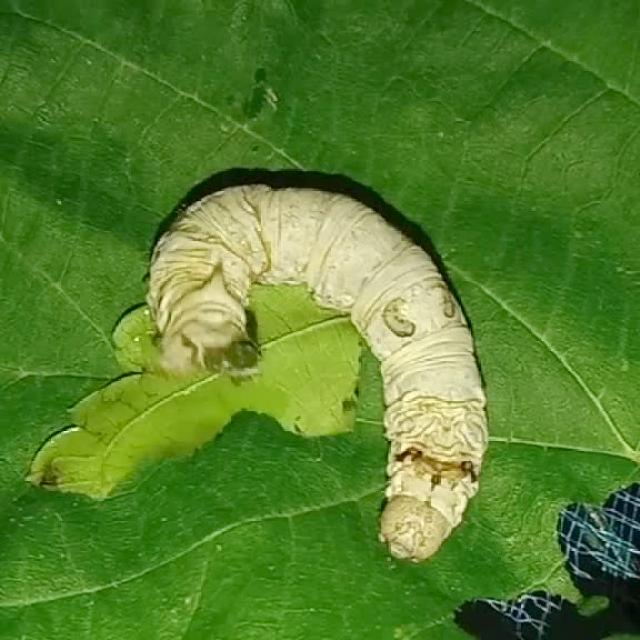Grasserie: (135, 152, 547, 578)
